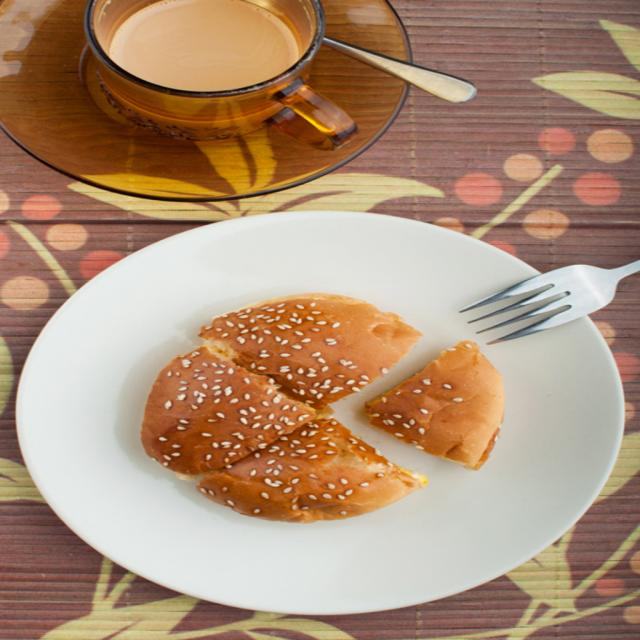Tea: (110, 0, 295, 91)
